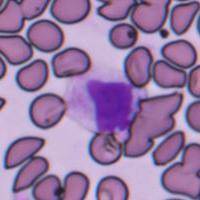M: (64, 70, 135, 133)
